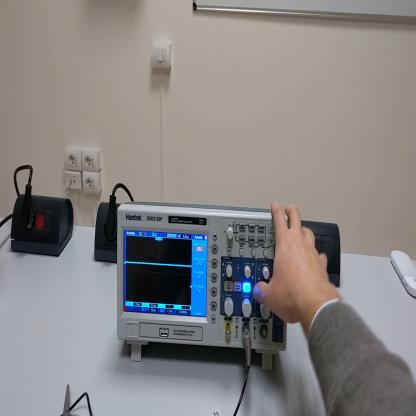hand: (254, 200, 330, 325)
oscilloscope: (117, 202, 288, 371)
oscilloscope probe tip: (62, 385, 71, 416)
socket: (11, 195, 76, 258), (96, 203, 118, 263)
